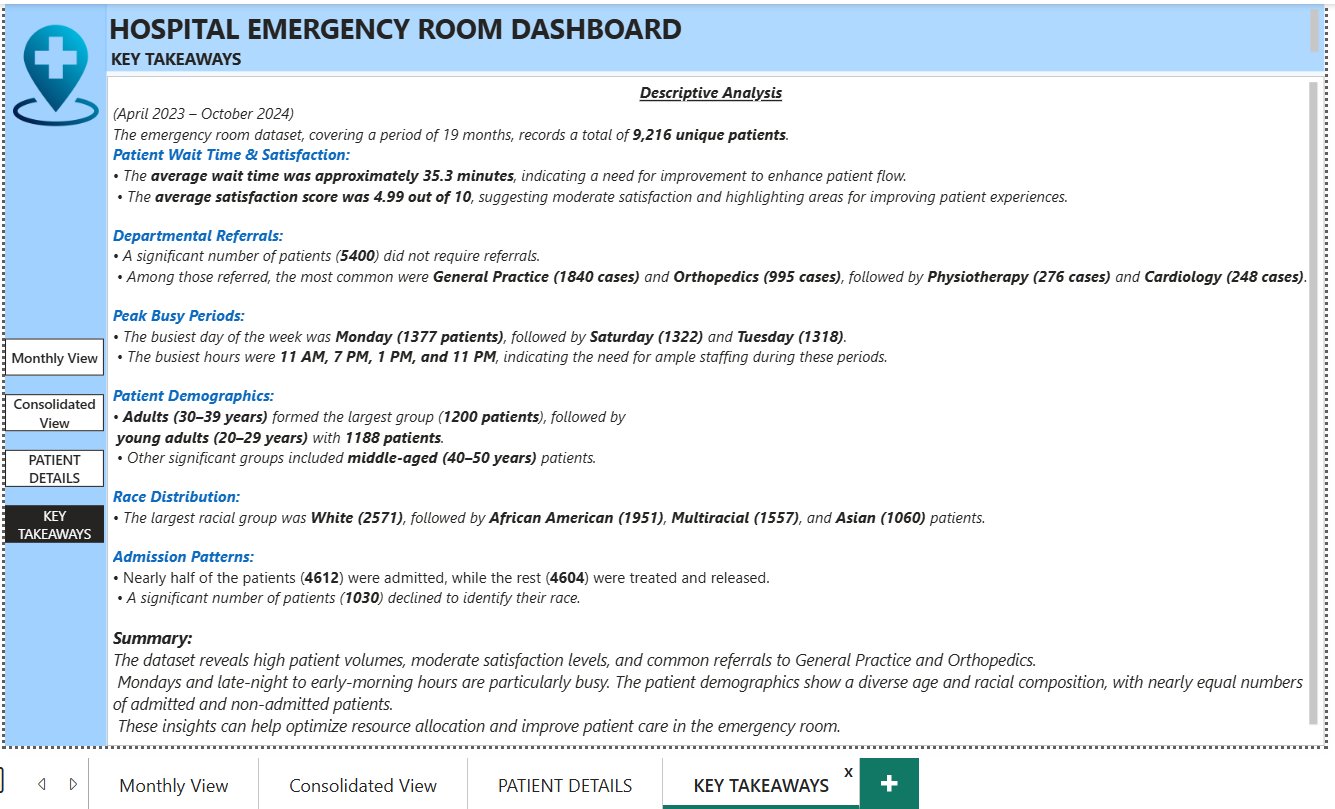

Layout of this report page (visuals, bound fields, positions):
{"tool":"powerbi","page":{"name":"KEY TAKEAWAYS","canvas":[1280,720],"ordinal":3},"visuals":[{"type":"shape","box":[0,0,98.6,720],"z":0},{"type":"shape","box":[97.7,0,1182.8,65.5],"z":1000},{"type":"textbox","box":[96.6,0,1183.6,64.7],"z":2000},{"type":"textbox","box":[98,36,150,34],"z":3000},{"type":"image","box":[0,0,98.6,138.6],"z":4000},{"type":"textbox","box":[99,70,1181,650],"z":5000},{"type":"pageNavigator","box":[0,325,96.7,200],"z":5001}]}

Visuals, with their boxes on the page's 1280x720 design canvas (x1, y1, x2, y2). These are canvas units, not pixel positions in the 1335x809 screenshot, which may show the page scaled, cropped or inside an application window:
shape: bbox=(0, 0, 99, 720)
shape: bbox=(98, 0, 1280, 66)
textbox: bbox=(97, 0, 1280, 65)
textbox: bbox=(98, 36, 248, 70)
image: bbox=(0, 0, 99, 139)
textbox: bbox=(99, 70, 1280, 720)
pageNavigator: bbox=(0, 325, 97, 525)
